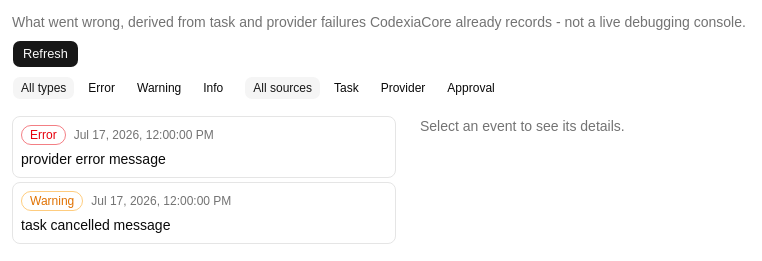
Test: Log › filtering by type narrows the visible events
Expected: the text "provider error message" is shown, left=21, top=149, right=166, bottom=169
Click the button "Warning" at (159, 88), box left=128, top=76, right=190, bottom=100
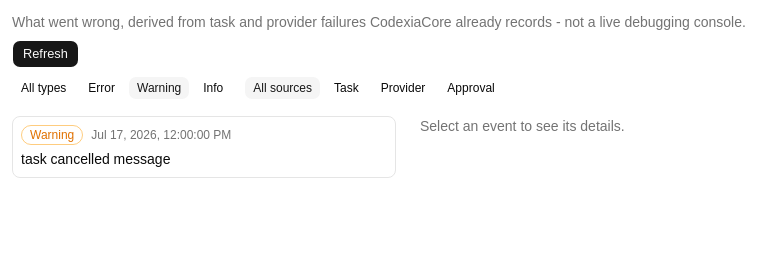
Expected: the text "task cancelled message" is shown, left=21, top=149, right=170, bottom=169
Expected: the button "provider error message" is gone
